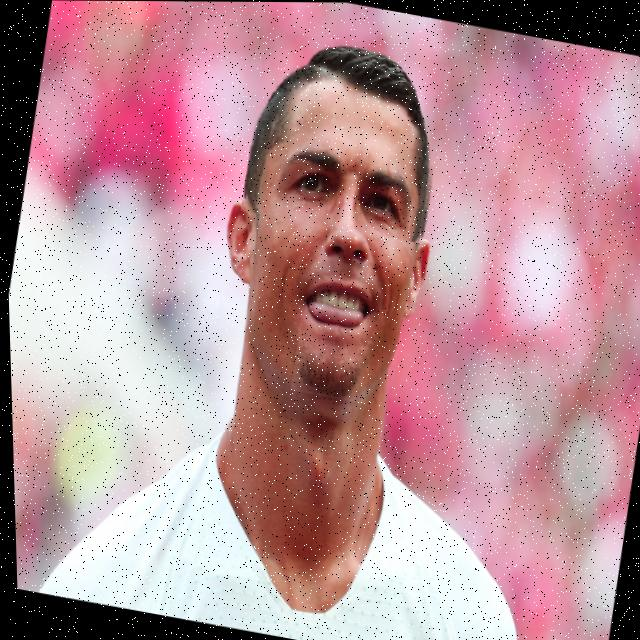beard: (292, 348, 369, 398)
hair: (244, 44, 430, 242)
